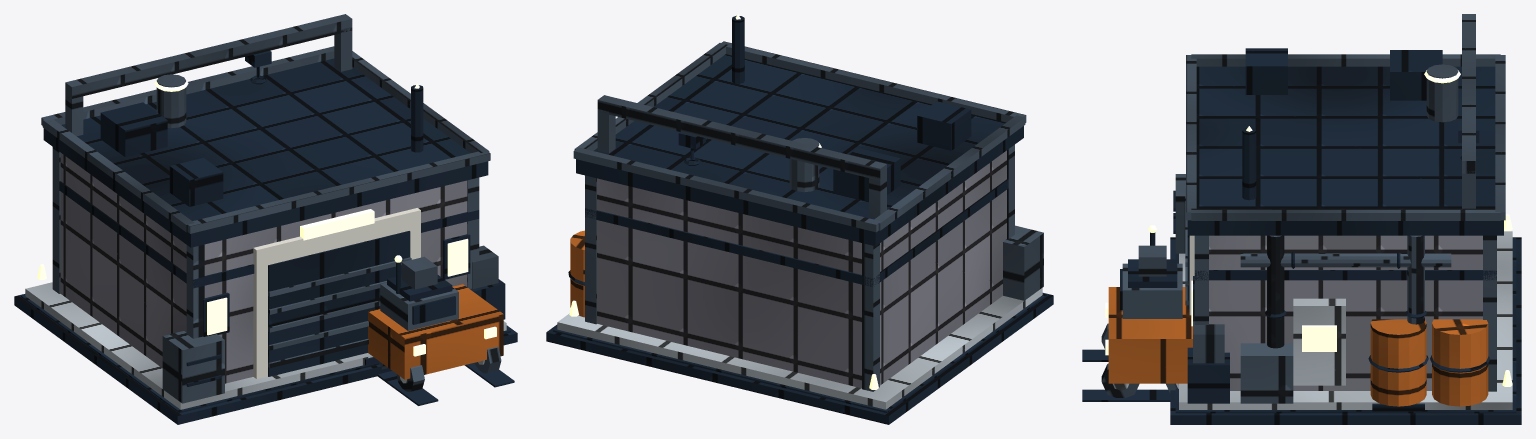
File: AegisMotorPool.fbx
The picture shows the model from 3 angles, left to right: view 1: azimuth 30°, elevation 25°; view 2: azimuth 150°, elevation 25°; view 3: azimuth 270°, elevation 25°; orthographic projection. The views are drawn at different scales.
Visible parts, largest first — view 1: Aegis_Roof, Aegis_Block, Aegis_Door, Aegis_RoverBody, Aegis_Tier, Aegis_CraneBeam, Aegis_DoorFrame, Aegis_Plinth, Aegis_Parapet_01, Aegis_ToolCabinet, Aegis_Vent, Aegis_Parapet_02 (+30 smaller); view 2: Aegis_Block, Aegis_Roof, Aegis_Tier, Aegis_Plinth, Aegis_CraneBeam, Aegis_Band, Aegis_Parapet_02, Aegis_Parapet_01, Aegis_ToolCabinet, Aegis_Pilaster_02, Aegis_Parapet_03, Aegis_Vent2 (+11 smaller); view 3: Aegis_Roof, Aegis_Block, Aegis_Tier, Aegis_RoverBody, Aegis_Plinth, Aegis_Drum2, Aegis_Drum, Aegis_Parapet_04, Aegis_Control, Aegis_Crate, Aegis_Band, Aegis_Pipe (+24 smaller).
Part boxes in pixels (<box>): Aegis_Roof: <box>43,58,488,247</box>; Aegis_Block: <box>60,153,467,383</box>; Aegis_Door: <box>268,231,410,376</box>; Aegis_RoverBody: <box>368,284,503,379</box>; Aegis_Tier: <box>25,282,506,409</box>; Aegis_CraneBeam: <box>65,14,352,98</box>; Aegis_DoorFrame: <box>253,208,420,378</box>; Aegis_Plinth: <box>14,294,517,424</box>; Aegis_Parapet_01: <box>188,151,490,233</box>; Aegis_ToolCabinet: <box>162,331,224,403</box>; Aegis_Vent: <box>100,102,167,157</box>; Aegis_Parapet_02: <box>41,46,334,125</box>; Aegis_Block: <box>597,150,1006,388</box>; Aegis_Roof: <box>576,54,1023,246</box>; Aegis_Tier: <box>557,288,1042,409</box>; Aegis_Plinth: <box>546,293,1053,424</box>; Aegis_CraneBeam: <box>597,95,886,180</box>; Aegis_Band: <box>585,179,1008,286</box>; Aegis_Parapet_02: <box>573,147,880,232</box>; Aegis_Parapet_01: <box>721,41,1026,122</box>; Aegis_ToolCabinet: <box>1003,225,1043,300</box>; Aegis_Pilaster_02: <box>862,243,879,391</box>; Aegis_Parapet_03: <box>874,115,1025,230</box>; Aegis_Vent2: <box>917,101,971,150</box>; Aegis_Roof: <box>1187,66,1503,235</box>; Aegis_Block: <box>1209,235,1482,390</box>; Aegis_Tier: <box>1179,231,1512,409</box>; Aegis_RoverBody: <box>1108,287,1192,383</box>; Aegis_Plinth: <box>1170,237,1521,424</box>; Aegis_Drum2: <box>1432,319,1488,406</box>; Aegis_Drum: <box>1370,319,1426,406</box>; Aegis_Parapet_04: <box>1191,208,1500,220</box>; Aegis_Control: <box>1293,298,1345,385</box>; Aegis_Crate: <box>1240,343,1293,403</box>; Aegis_Band: <box>1194,270,1496,280</box>; Aegis_Pipe: <box>1240,253,1451,267</box>.
Size of the model in its own units: 2.42 by 1.67 by 2.5.
